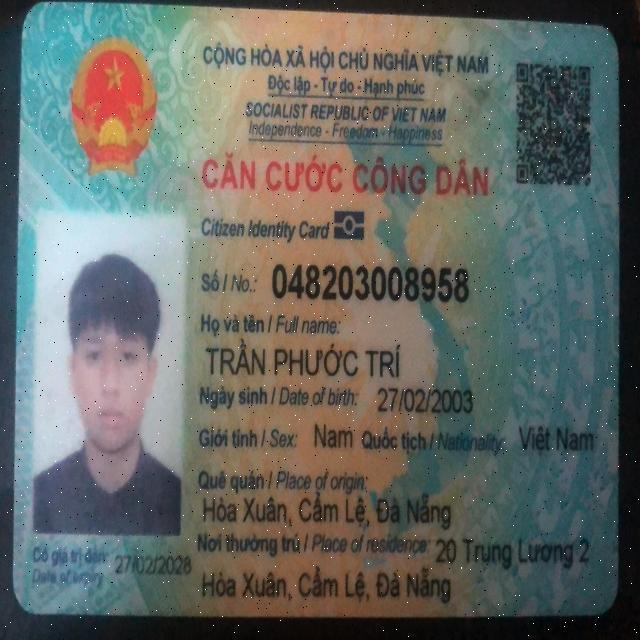current_place: (200, 566, 456, 606), (434, 529, 591, 570)
dob: (375, 382, 474, 418)
expire_date: (113, 548, 191, 581)
gender: (309, 419, 356, 454)
id: (270, 254, 473, 306)
name: (203, 336, 403, 381)
nationality: (515, 421, 597, 460)
origin_place: (200, 494, 458, 529)
